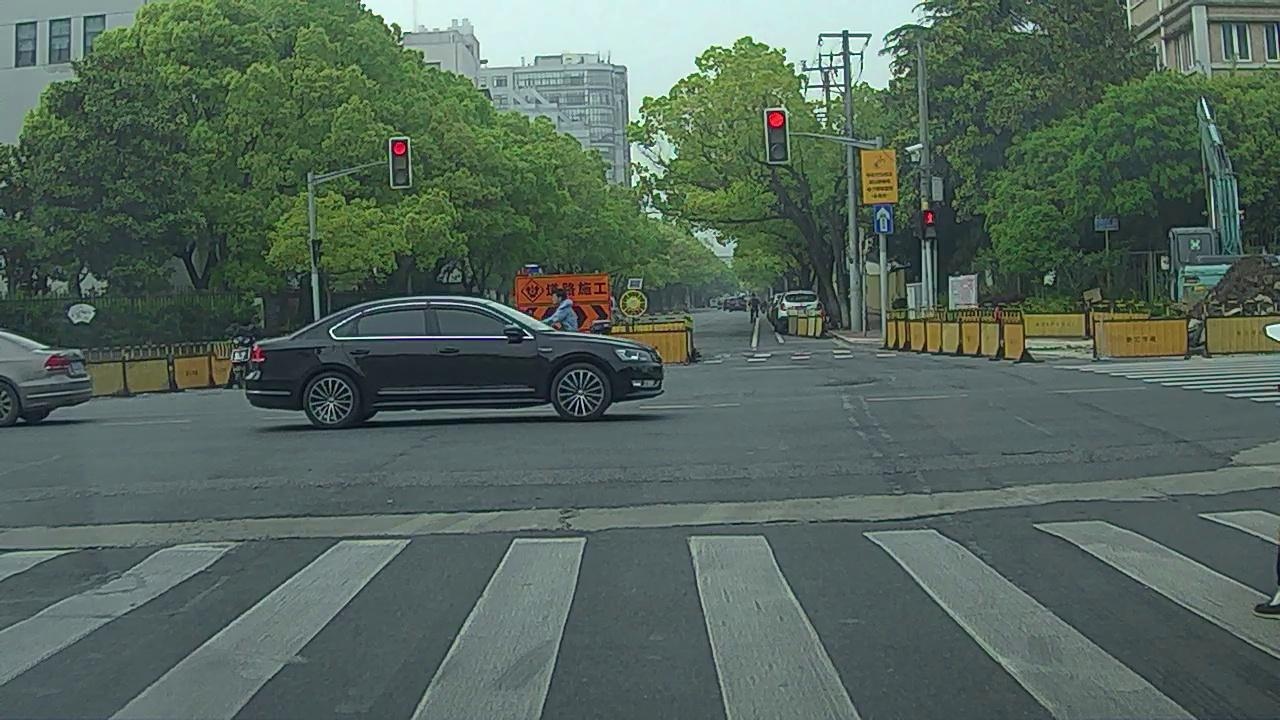traffic_light: (767, 110, 789, 162), (390, 140, 410, 187)
